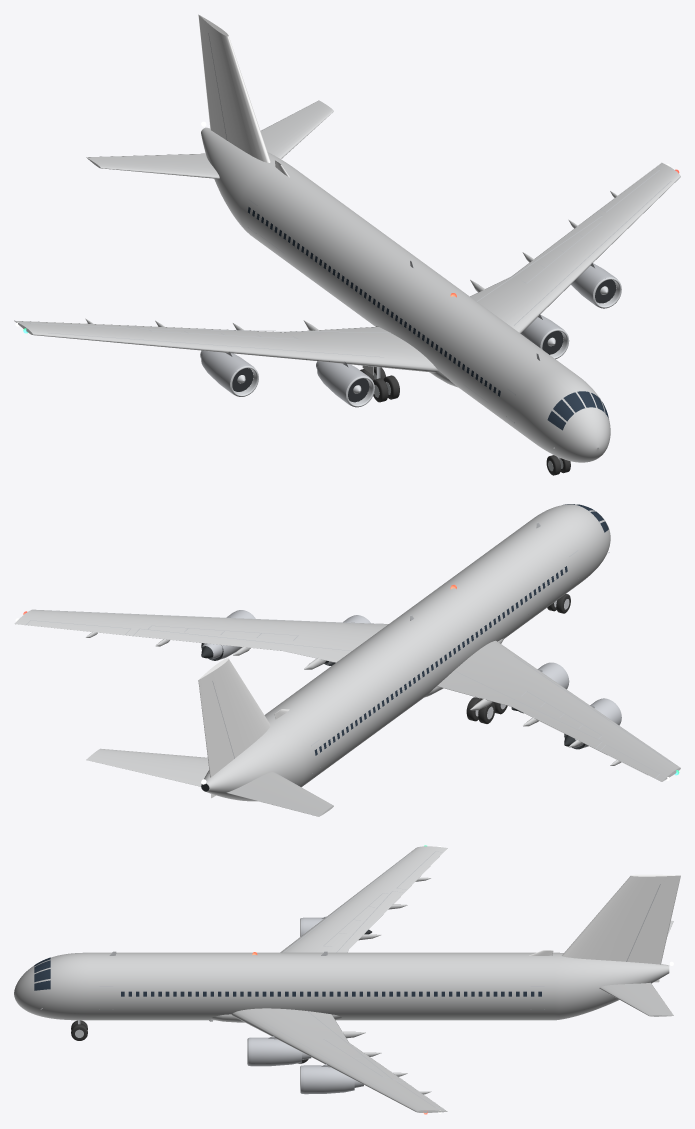
3 renders of one model, top to bottom at view 1: azimuth 30°, elevation 25°; view 2: azimuth 150°, elevation 25°; view 3: azimuth 270°, elevation 25°, orthographic. The views are drawn at different scales.
Parts seen in each view (by area): view 1: airframe, gear; view 2: airframe, gear; view 3: airframe.
Part boxes in pixels (x1=…): airframe: x1=14, y1=14, x2=680, y2=462; gear: x1=360, y1=365, x2=570, y2=475; airframe: x1=14, y1=504, x2=680, y2=816; gear: x1=466, y1=594, x2=570, y2=723; airframe: x1=14, y1=845, x2=680, y2=1114.
Size of the model in its own units: 44.9 by 12.77 by 47.44.
